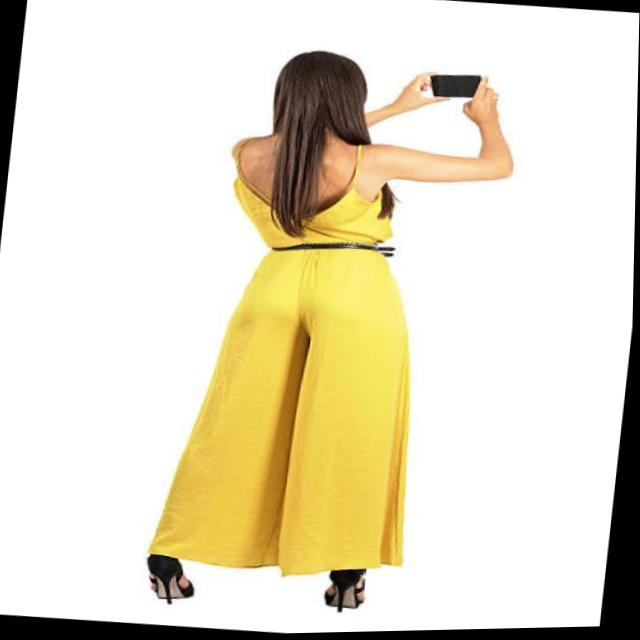no helmet: (230, 13, 415, 260)
